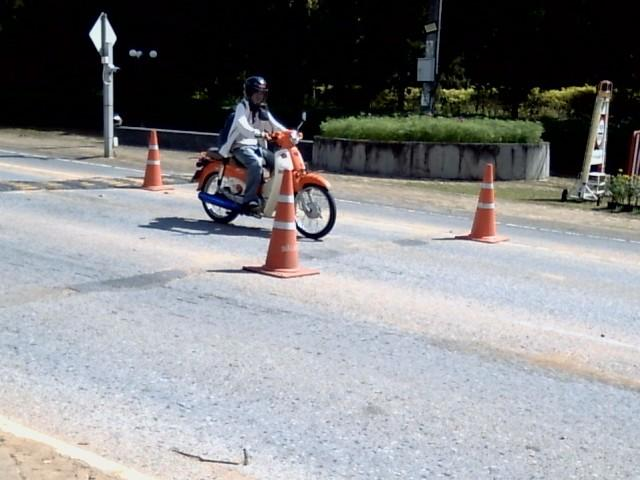helmet: (243, 74, 268, 101)
motor: (190, 130, 336, 238)
person: (220, 76, 286, 209)
